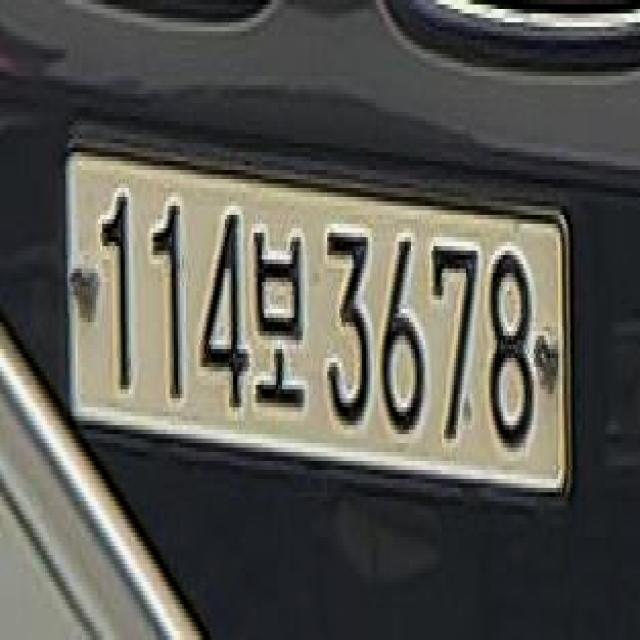illegal_plate: (61, 132, 570, 527)
